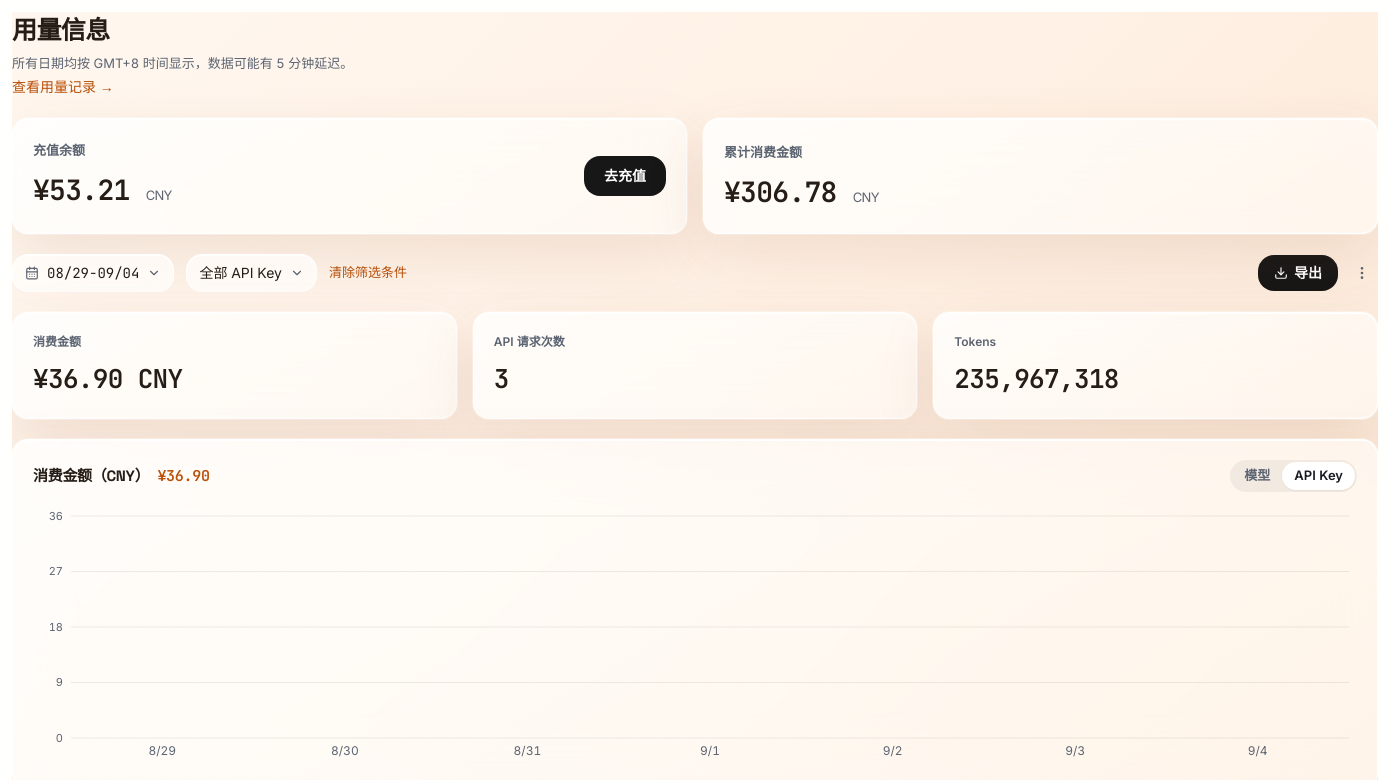
Test case: Dashboard（用量信息） › opens the date range picker with quick options and double calendars
Click the button "08/29-09/04" at (93, 273), box [12,254,174,292]
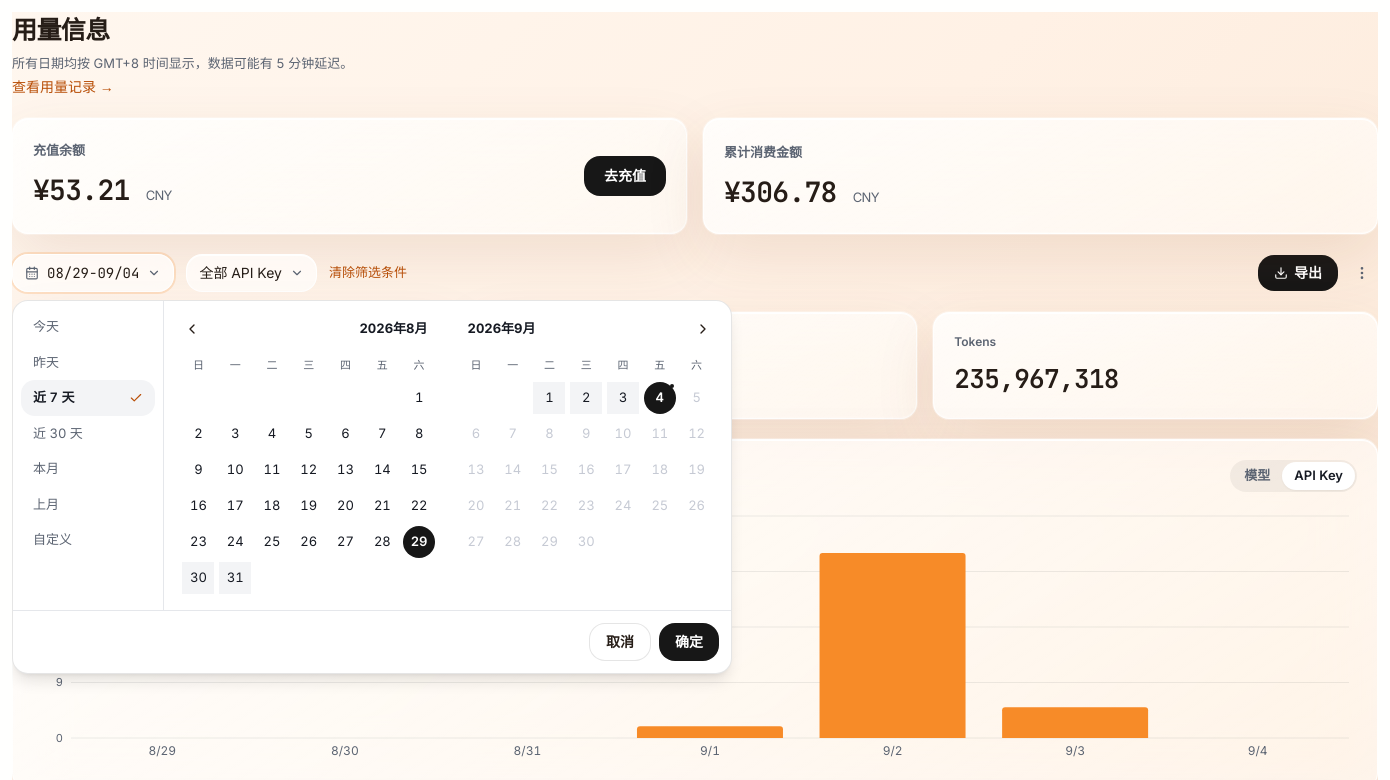
Now the button "今天" is shown, box [21,309,155,344]
Now the button "昨天" is shown, box [21,344,155,380]
Now the button "近 7 天" is shown, box [21,380,155,416]
